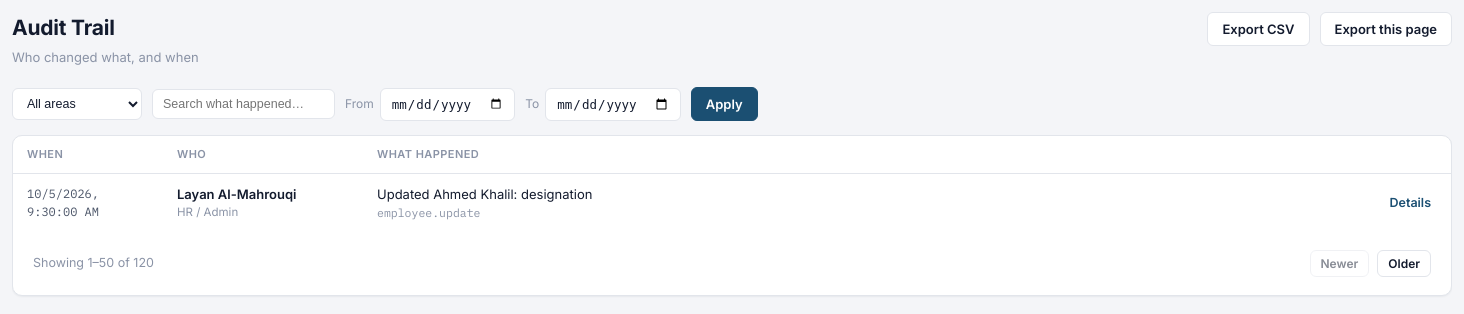
Audit trail › pages through the trail
Expected: the text "Showing 1–50 of 120" is shown, [33,254,154,273]
Expected: the button "Newer" is disabled, [1310,250,1369,277]
Click the button "Older" at [1404, 264], box [1377,250,1431,277]
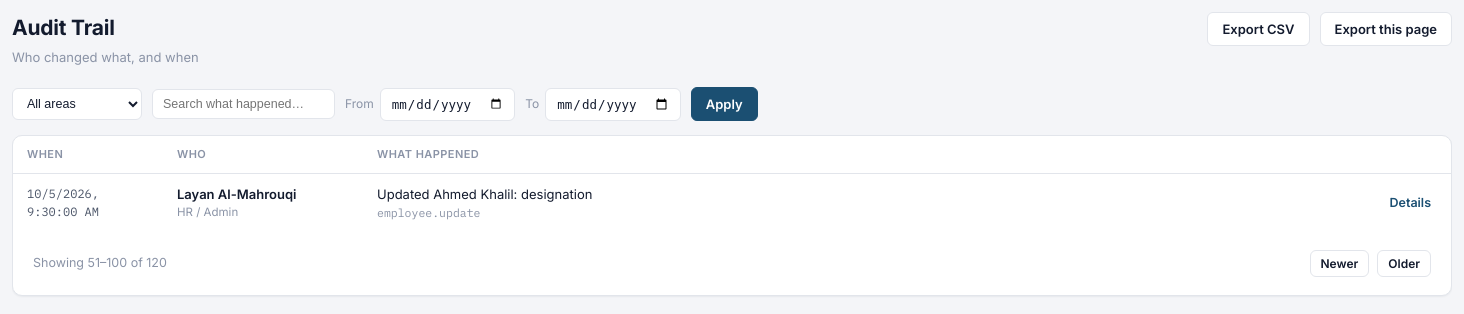
Expected: the text "Showing 51–100 of 120" is shown, [33,254,167,273]
Click the button "Older" at [1404, 264], box [1377,250,1431,277]
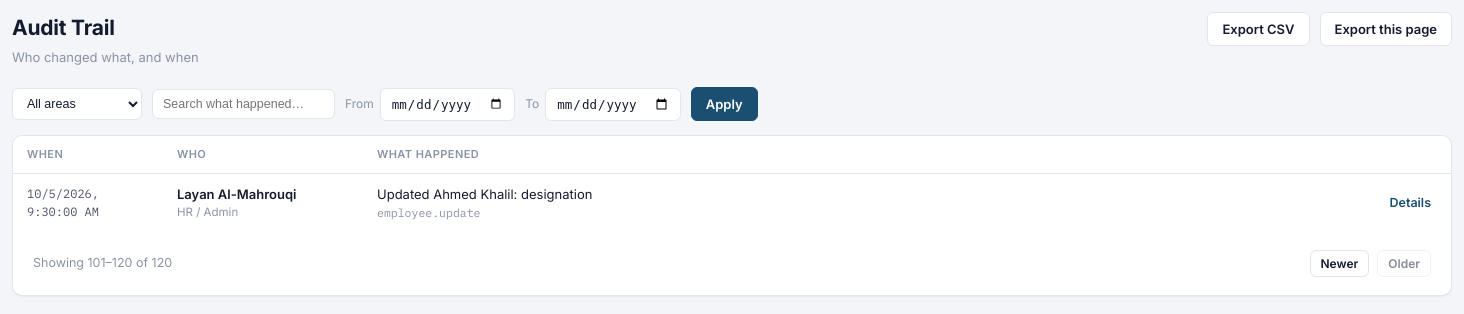
Expected: the text "Showing 101–120 of 120" is shown, [33,254,172,273]
Expected: the button "Older" is disabled, [1377,250,1431,277]
